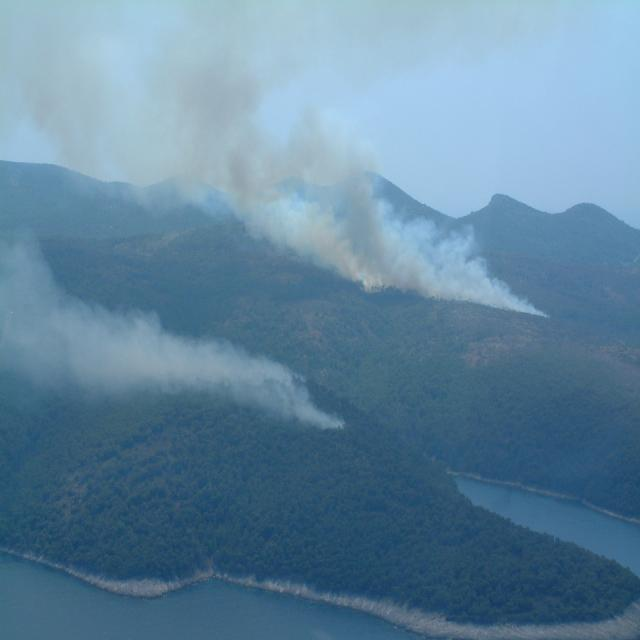Smoke: (0, 1, 548, 320), (1, 192, 347, 434)
